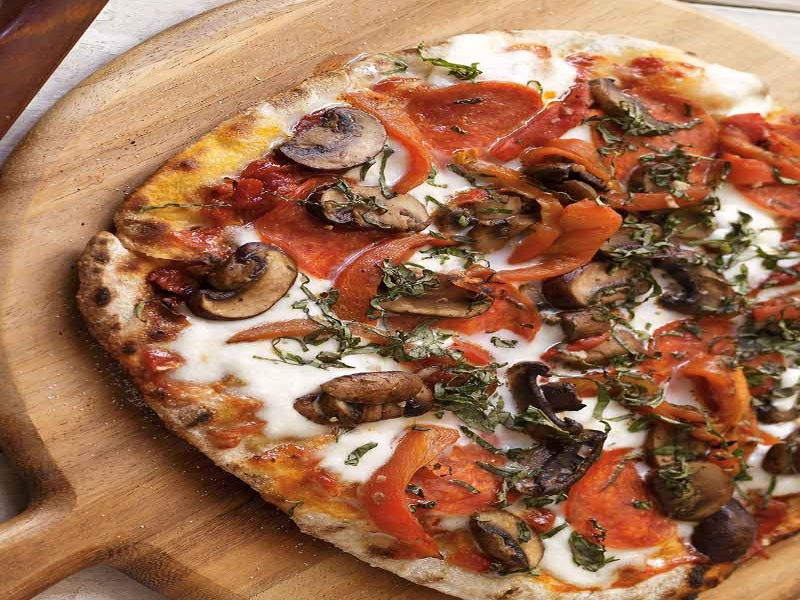champignon: (184, 233, 299, 327), (274, 103, 388, 177), (311, 177, 443, 239), (466, 504, 551, 577)
